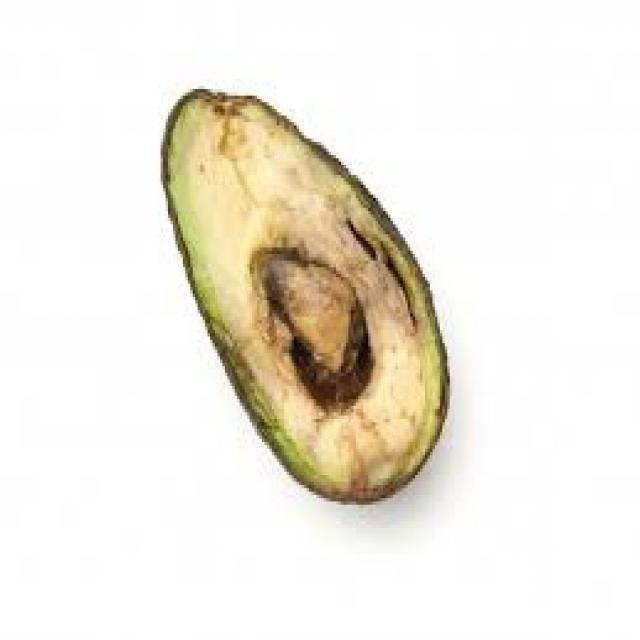organic waste: (158, 86, 447, 501)
